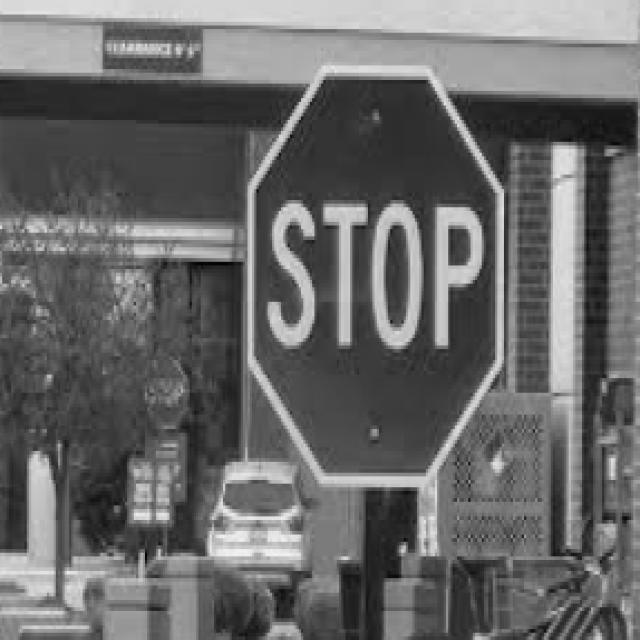Stop-signs: (250, 63, 505, 488)
